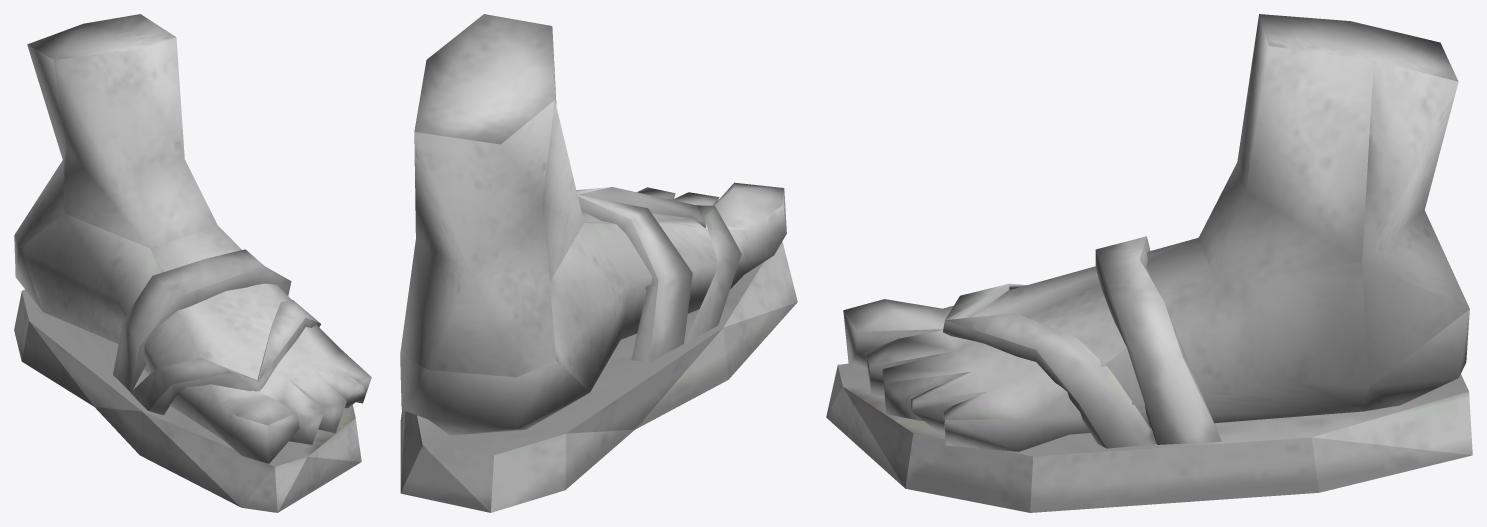
The model's file is ob-bigstatue03_lod_01.fbx.
3 views of the same model, side by side, from view 1: azimuth 30°, elevation 25°; view 2: azimuth 150°, elevation 25°; view 3: azimuth 270°, elevation 25° (orthographic). The views are drawn at different scales.
Parts seen in each view (by area): view 1: Box503; view 2: Box503; view 3: Box503.
Boxes of the visible parts, x1,y1,x2,y2 form: Box503: (14,14,371,512); Box503: (400,14,797,512); Box503: (826,14,1472,512).
Size of the model in its own units: 1.88 by 2.98 by 4.18.
